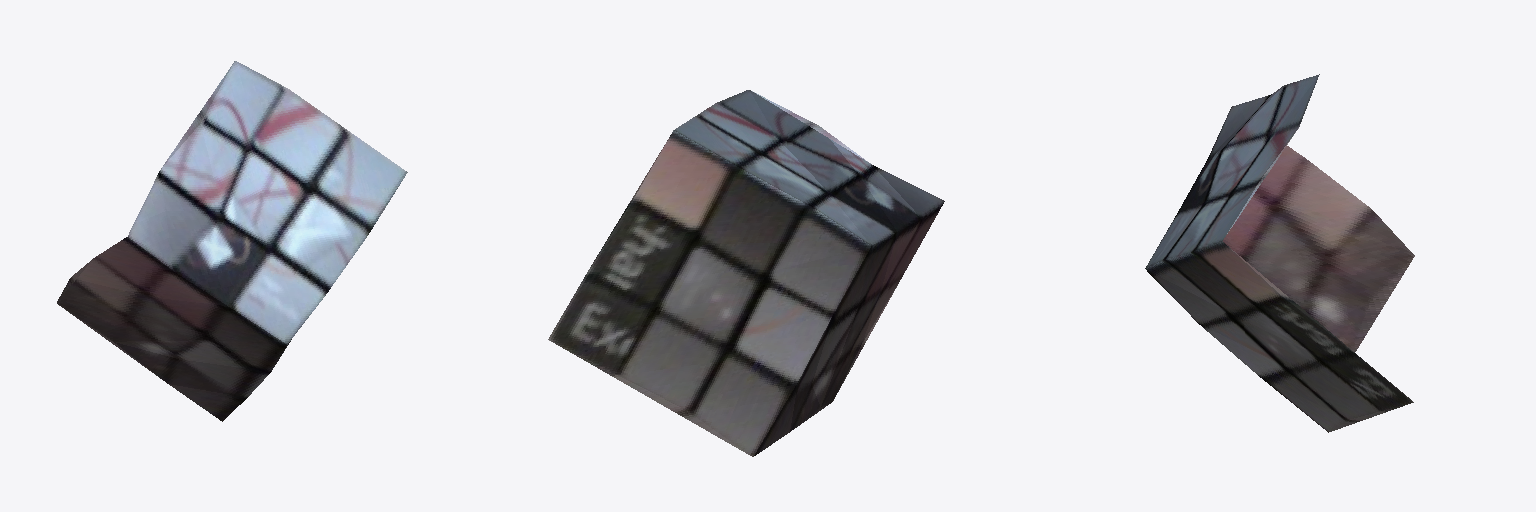
3 renders of one model, left to right at view 1: azimuth 30°, elevation 25°; view 2: azimuth 150°, elevation 25°; view 3: azimuth 270°, elevation 25°, orthographic.
Parts seen in each view (by area): view 1: 1; view 2: 1; view 3: 1.
Boxes of the visible parts, x1=… form: 1: x1=57, y1=61, x2=407, y2=421; 1: x1=548, y1=90, x2=944, y2=456; 1: x1=1145, y1=74, x2=1414, y2=432.
Bounding box in the file's own units: 1.66 × 1.88 × 1.27.
1 materials, 1 textured.